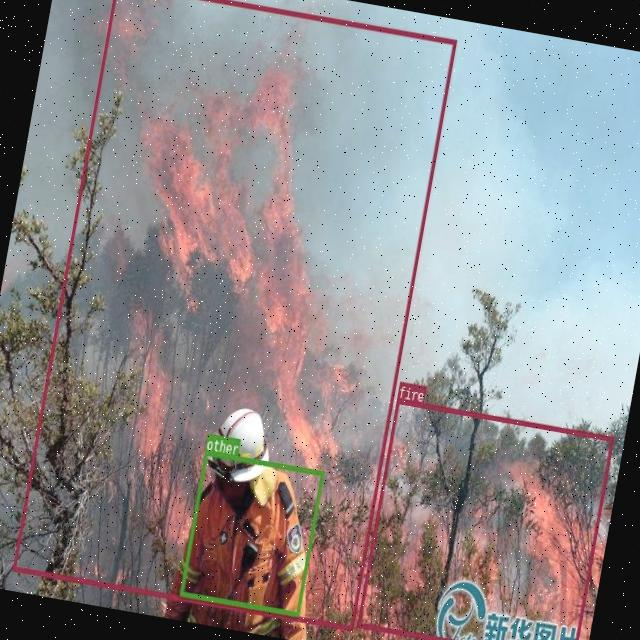fire: (11, 0, 456, 629), (356, 397, 614, 640)
